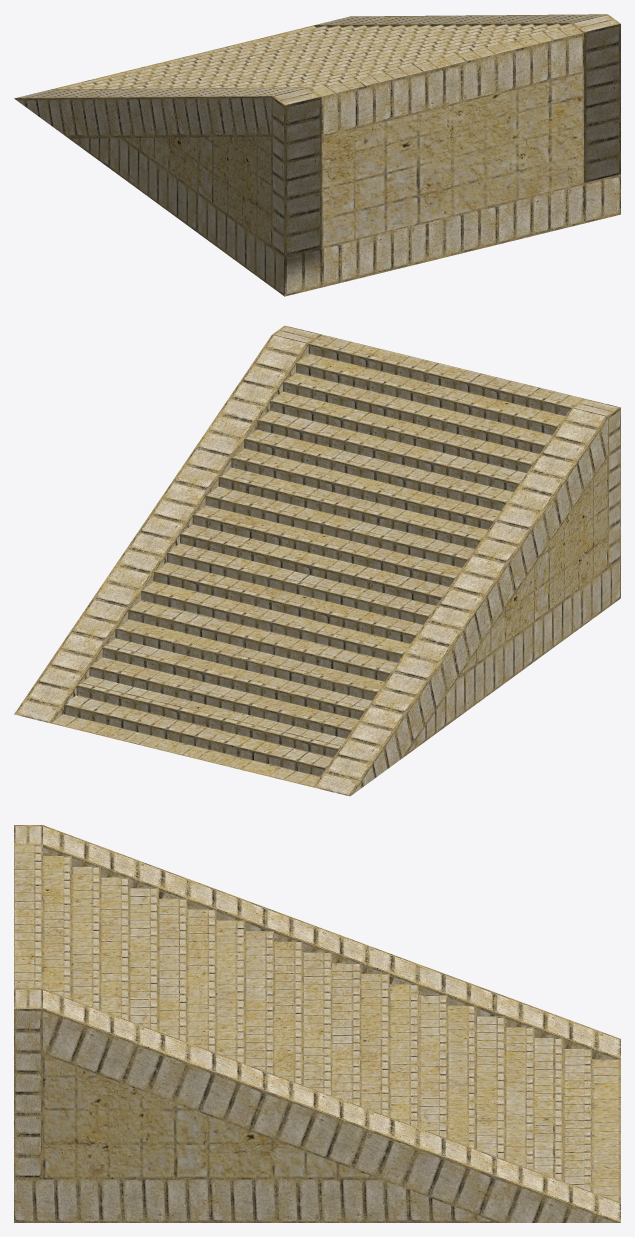
File: tutorial_structure_stairs02.dae
3 renders of one model, top to bottom at view 1: azimuth 30°, elevation 25°; view 2: azimuth 150°, elevation 25°; view 3: azimuth 270°, elevation 25°, orthographic. The views are drawn at different scales.
Parts seen in each view (by area): view 1: tutorial_structure_stairs02; view 2: tutorial_structure_stairs02; view 3: tutorial_structure_stairs02.
Boxes of the visible parts, x1=… form: tutorial_structure_stairs02: x1=14, y1=14, x2=620, y2=296; tutorial_structure_stairs02: x1=14, y1=325, x2=620, y2=796; tutorial_structure_stairs02: x1=14, y1=825, x2=620, y2=1222.
Size of the model in its own units: 6.75 by 9.41 by 3.66.
Materials: 2 (2 with a texture image).
